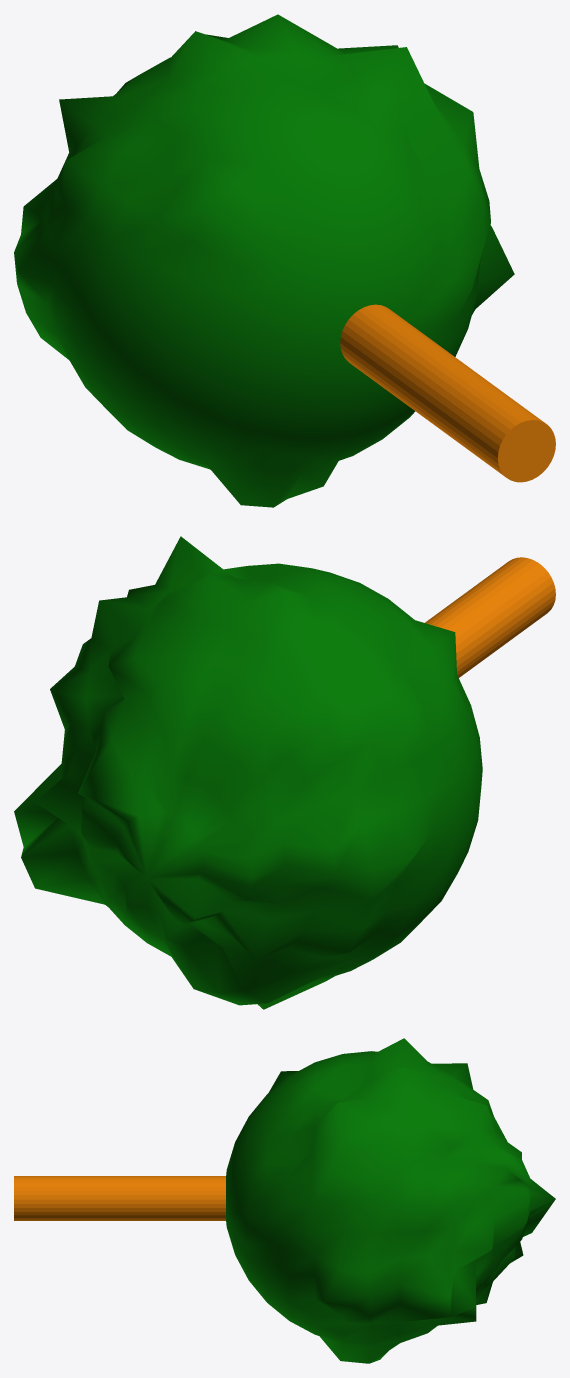
The model's file is Arbol.fbx.
3 views of the same model, one above another, from view 1: azimuth 30°, elevation 25°; view 2: azimuth 150°, elevation 25°; view 3: azimuth 270°, elevation 25° (orthographic). The views are drawn at different scales.
Visible parts, largest first — view 1: Arbol; view 2: Arbol; view 3: Arbol.
Boxes of the visible parts, bbox=[...] form: Arbol: bbox=[14, 14, 555, 507]; Arbol: bbox=[14, 536, 555, 1009]; Arbol: bbox=[14, 1038, 555, 1363].
Bounding box in the file's own units: 3858 × 4054 × 6479.
